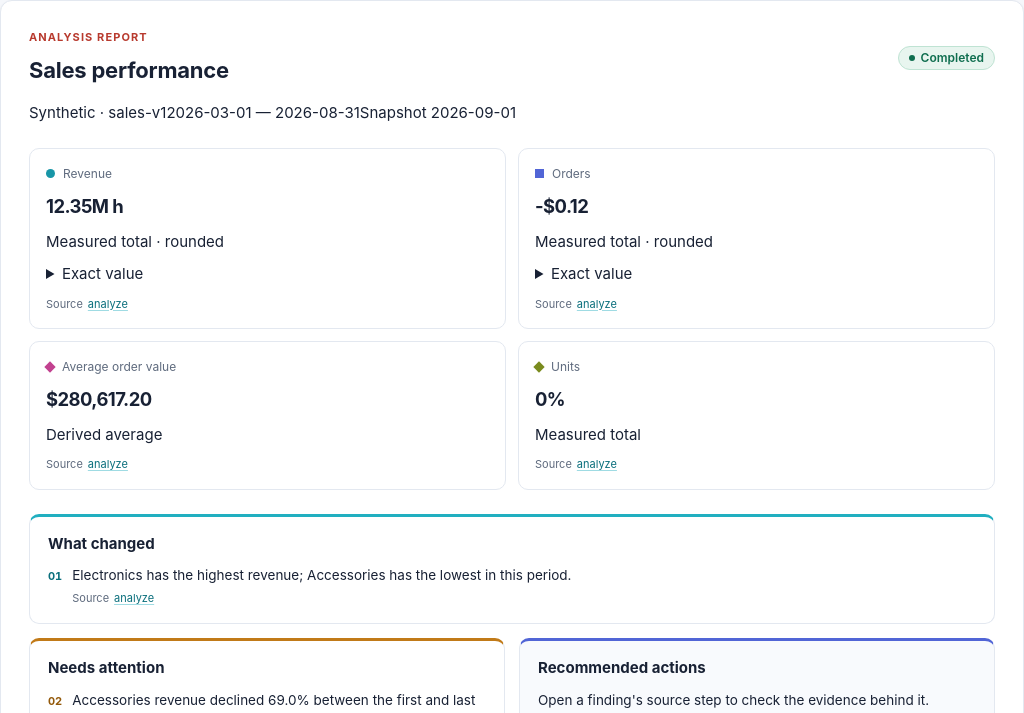
Test case: large KPI values (B3) › exposes the full-precision exact value once to assistive tech and in the disclosure
The image size is (1024, 713).
What coordinates should you click on to do the following:
click the heading "Exact value" below "12.35M h"
I would click on:
 (103, 274)
Its box is [62, 264, 143, 283].
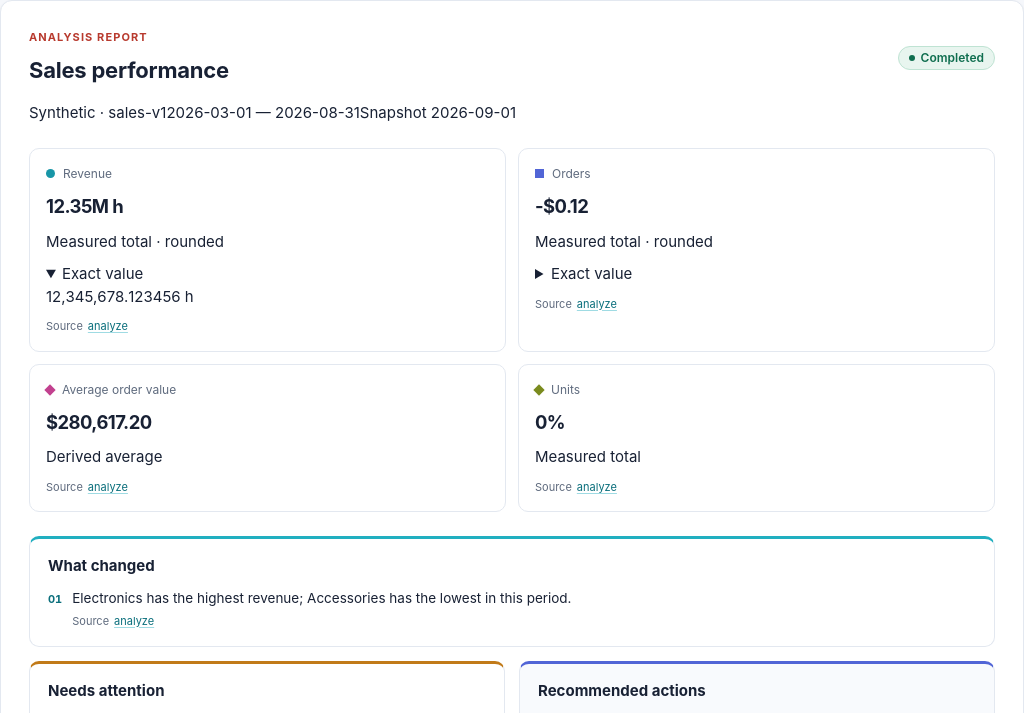
Expected: the element with test id "analytics-kpi" shows "rounded", [641, 232, 713, 251]
Result: the element with class "kpi-exact-value" reads "12,345,678.123456 h" at [46, 287, 194, 306]
